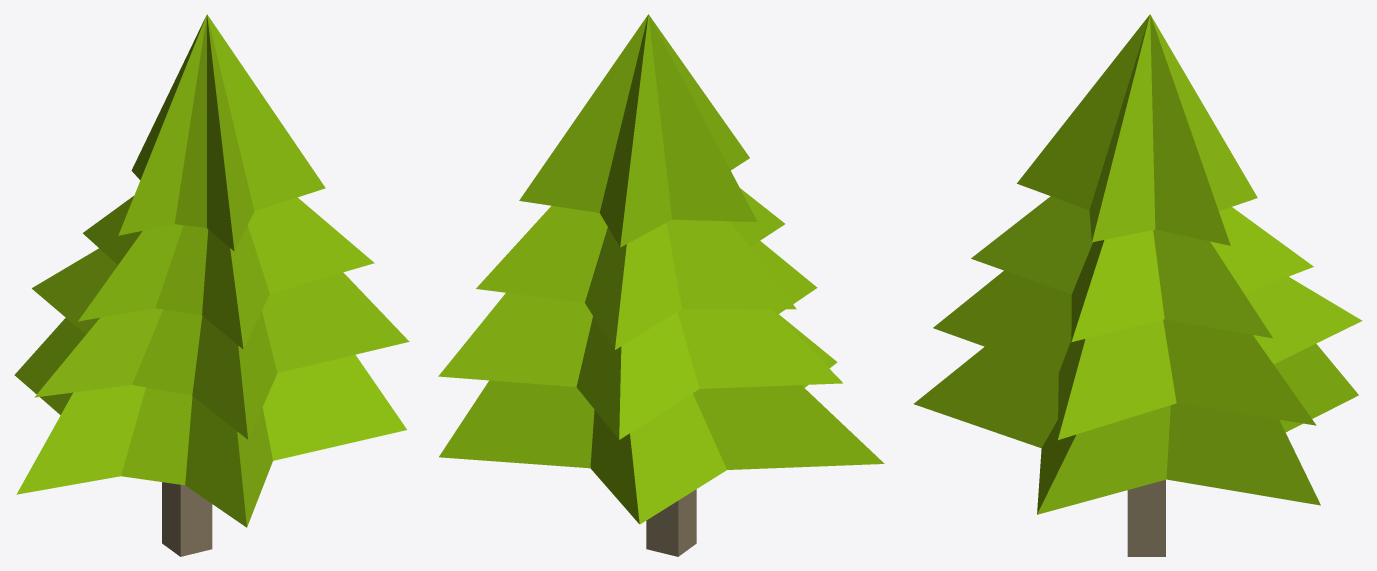
File: tree_pine_star_skewed_2.fbx
3 renders of one model, left to right at view 1: azimuth 30°, elevation 25°; view 2: azimuth 150°, elevation 25°; view 3: azimuth 270°, elevation 25°, orthographic. The views are drawn at different scales.
Parts seen in each view (by area): view 1: tree_pine_star_skewed_2; view 2: tree_pine_star_skewed_2; view 3: tree_pine_star_skewed_2.
Boxes of the visible parts, <box> form: tree_pine_star_skewed_2: <box>14,14,409,556</box>; tree_pine_star_skewed_2: <box>438,14,884,556</box>; tree_pine_star_skewed_2: <box>914,14,1362,556</box>.
Bounding box in the file's own units: 143 × 194 × 145.
